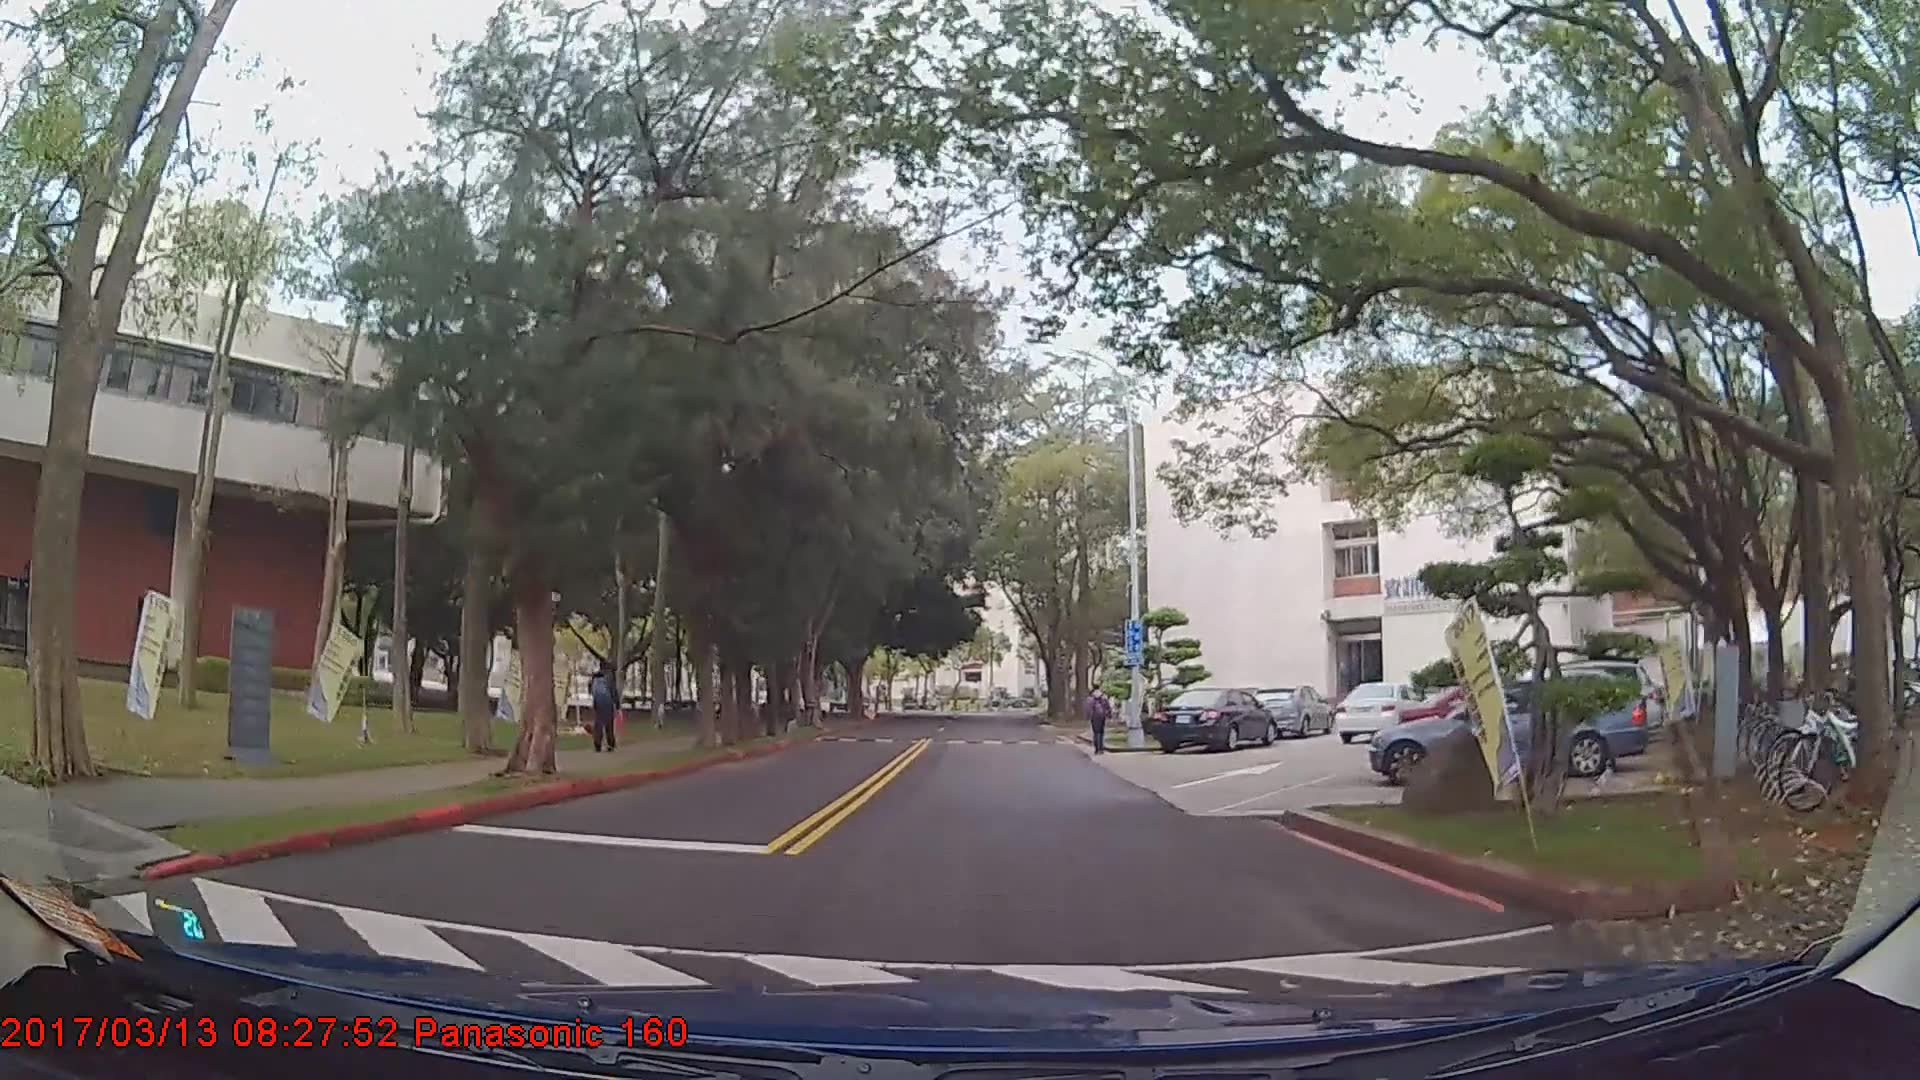pedestrian: (591, 662, 620, 755), (1087, 686, 1115, 759)
vehicle: (1366, 672, 1647, 789), (1149, 689, 1278, 757), (1334, 680, 1423, 744), (1253, 683, 1335, 739)
